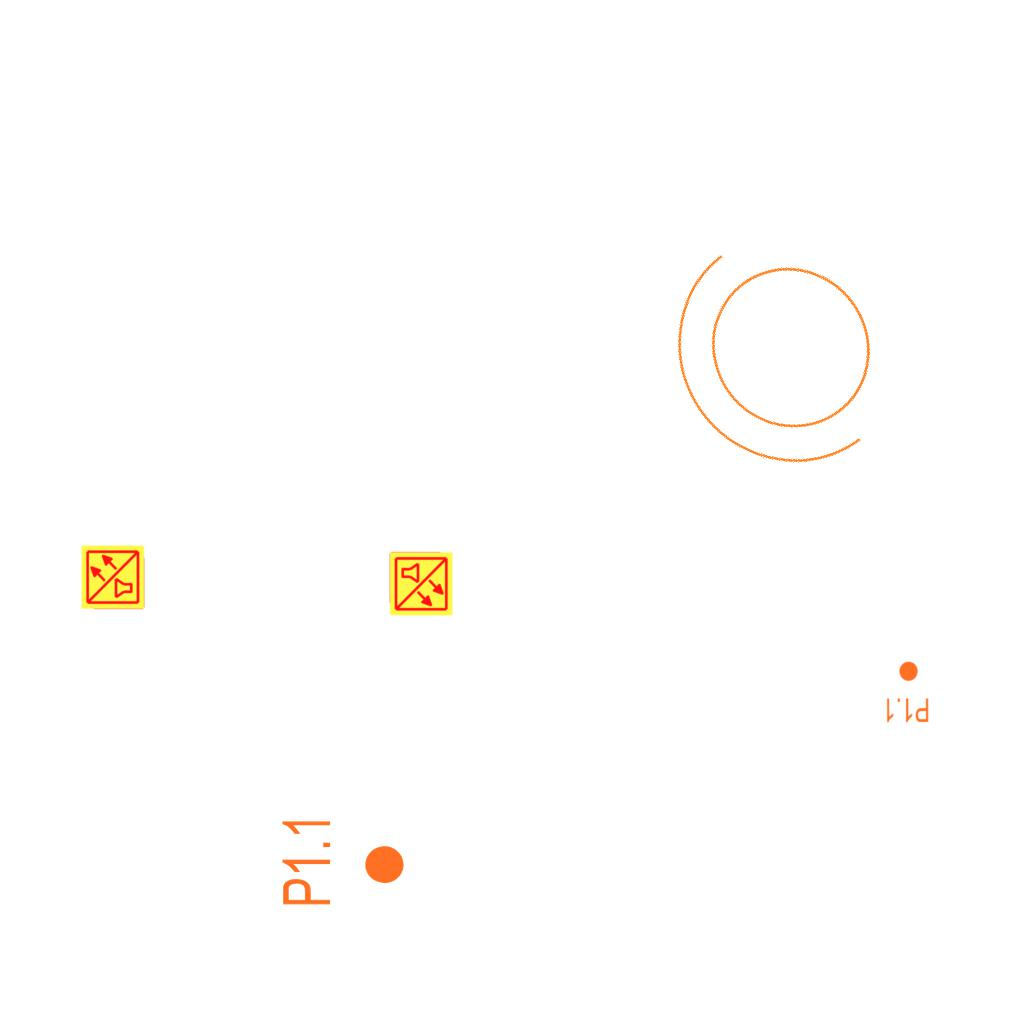Downlight_LED_Einbauleuchten_Flur: (279, 815, 407, 908), (884, 660, 930, 724)
OKW_Multisensormelder_(Kombination_optischer_Rauch-Kahlenmonoxid_Waerme-Melder): (80, 544, 146, 610), (388, 551, 454, 617)
Scheinwerfer_fuer_Alarmbeleuchtung: (617, 185, 957, 532)
